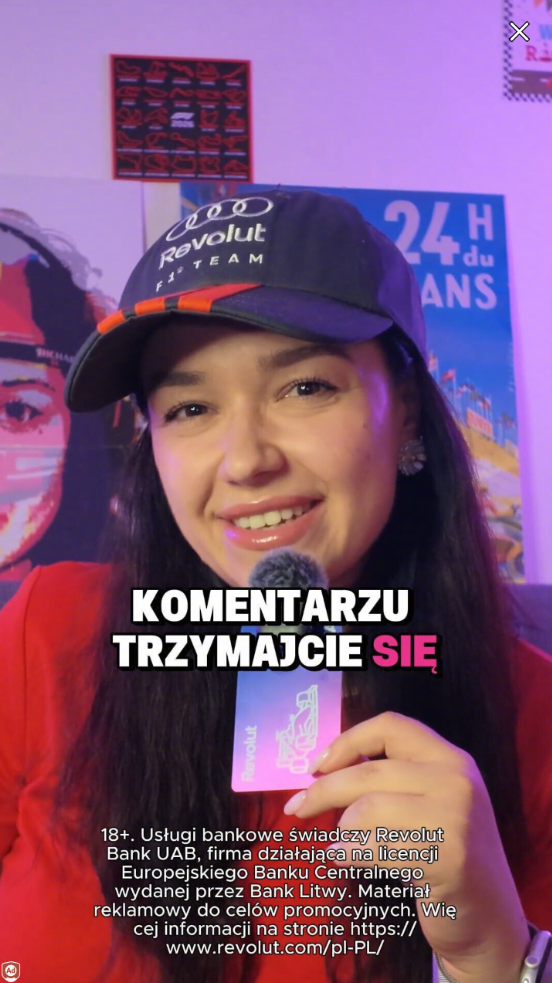close_button: (503, 13, 533, 46)
